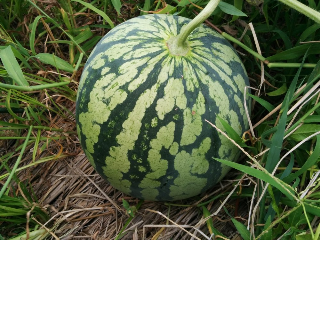dua_hau: (70, 11, 253, 203)
